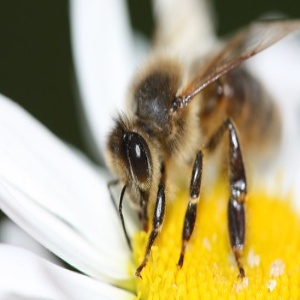bee: (104, 16, 300, 280)
